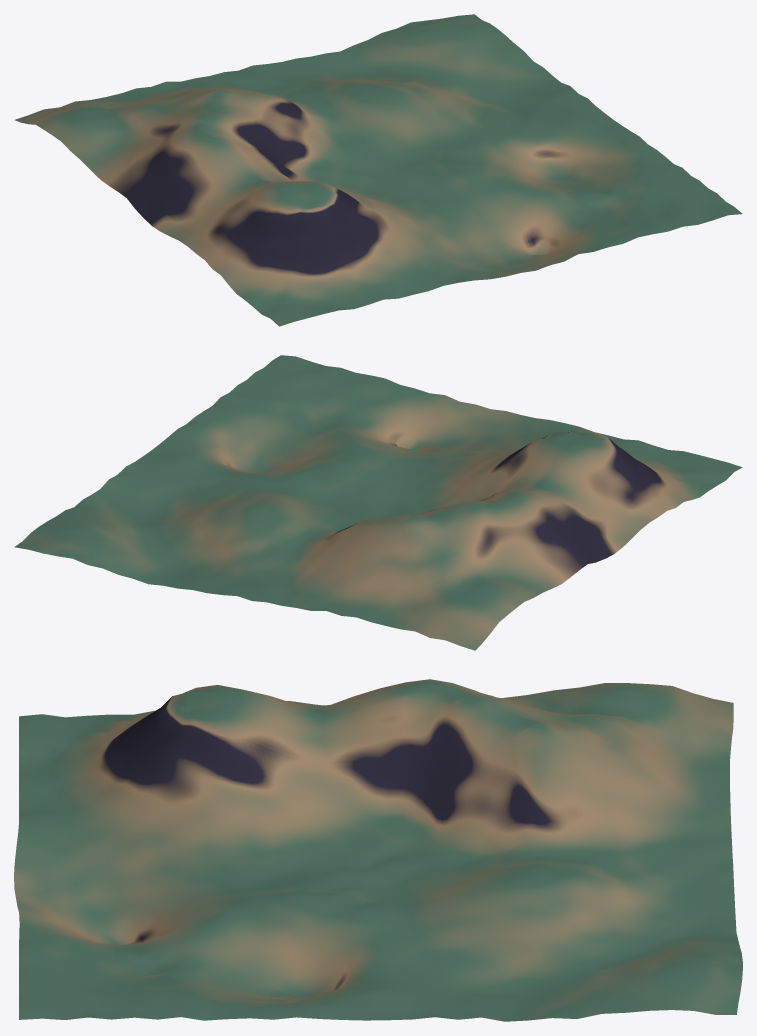
Rendered from ground.obj.
3 views of the same model, one above another, from view 1: azimuth 30°, elevation 25°; view 2: azimuth 150°, elevation 25°; view 3: azimuth 270°, elevation 25° (orthographic). The views are drawn at different scales.
Parts seen in each view (by area): view 1: Plane; view 2: Plane; view 3: Plane.
Part boxes in pixels (bbox=[...]): Plane: bbox=[14, 14, 742, 326]; Plane: bbox=[14, 355, 742, 650]; Plane: bbox=[14, 679, 742, 1021].
Size of the model in its own units: 200 by 38.87 by 203.
Materials: 1 (1 with a texture image).
